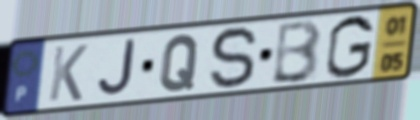B: (269, 17, 324, 86)
G: (323, 13, 376, 81)
J: (95, 37, 138, 99)
K: (46, 42, 91, 104)
Q: (157, 32, 202, 94)
S: (208, 24, 260, 93)
